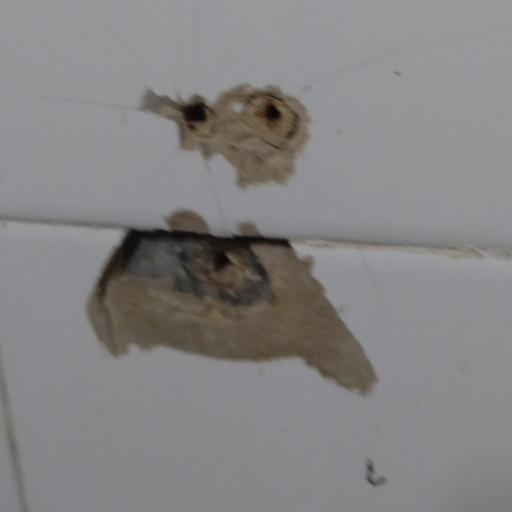spalling: (54, 206, 399, 411), (136, 61, 314, 184)
